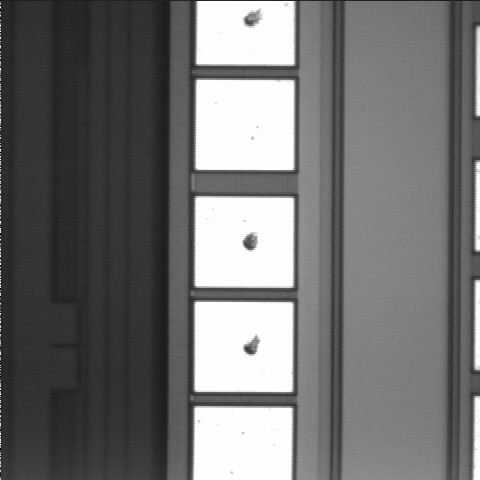pad: (195, 196, 294, 288), (196, 80, 294, 170), (195, 302, 293, 392)
